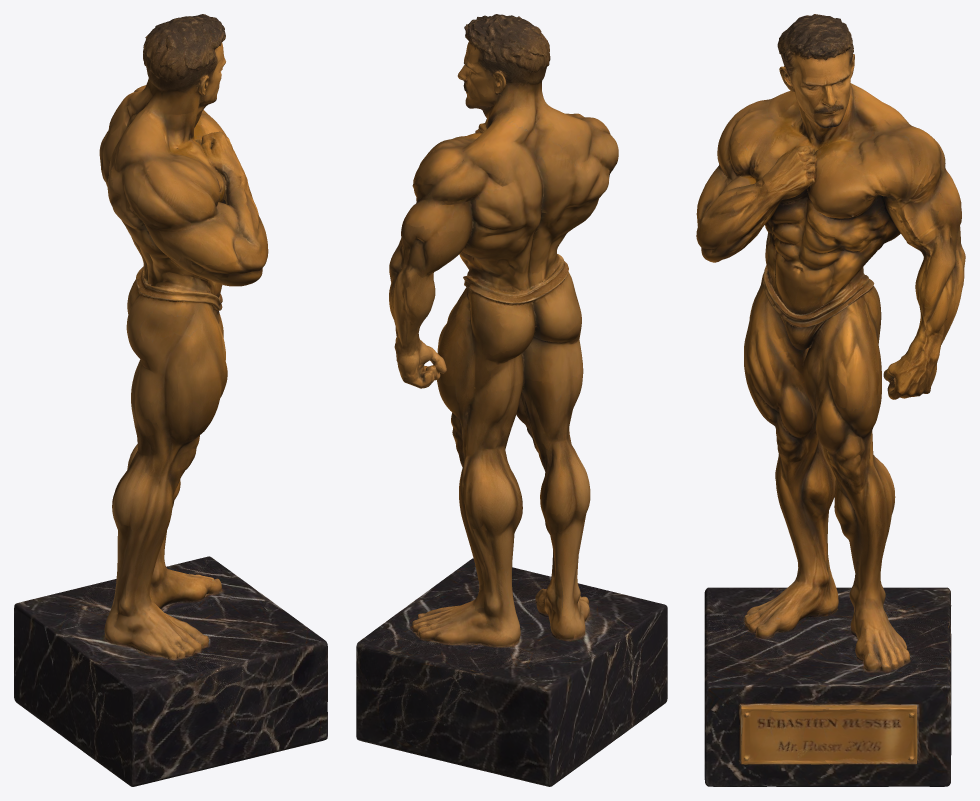
Rendered from avatar.glb.
The picture shows the model from 3 angles, left to right: view 1: azimuth 30°, elevation 25°; view 2: azimuth 150°, elevation 25°; view 3: azimuth 270°, elevation 25°; orthographic projection. The views are drawn at different scales.
Visible parts, largest first — view 1: Mesh_0; view 2: Mesh_0; view 3: Mesh_0.
Part boxes in pixels (x1,y1,x2,y2): Mesh_0: (14,14,327,786); Mesh_0: (356,14,667,786); Mesh_0: (696,14,965,786).
Bounding box in the file's own units: 0.5858 × 1.9 × 0.6403.
Materials: 1 (1 with a texture image).
